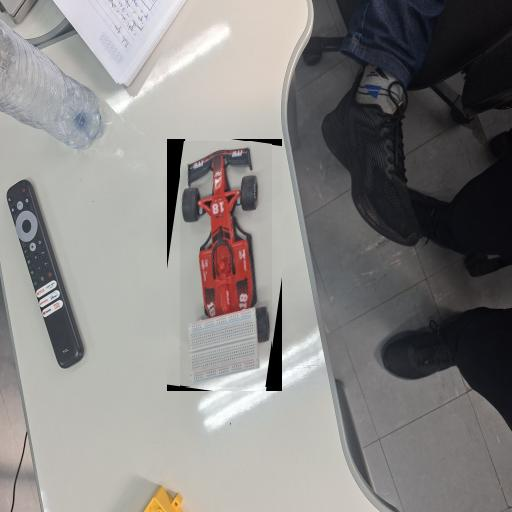carro: (180, 142, 272, 387)
